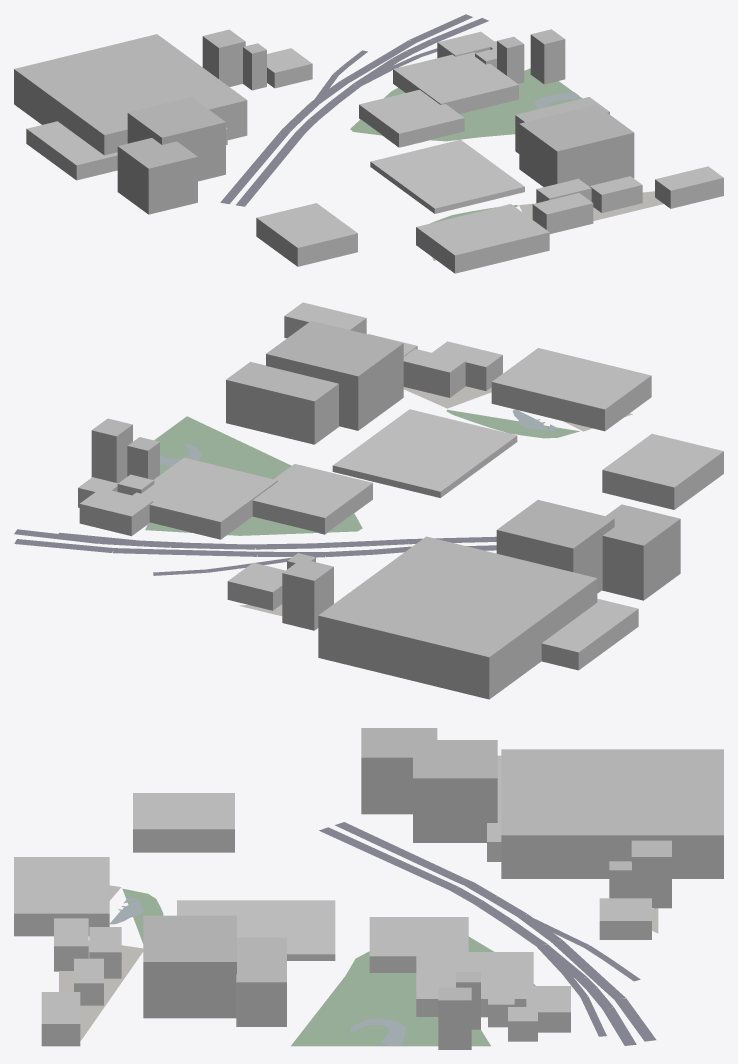
File: 134_103_mid.glb
The picture shows the model from 3 angles, top to bottom: view 1: azimuth 30°, elevation 25°; view 2: azimuth 150°, elevation 25°; view 3: azimuth 270°, elevation 25°; orthographic projection. The views are drawn at different scales.
Bounding box in the file's own units: 553 × 60.92 × 592.
